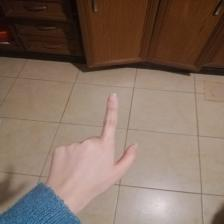five: (54, 94, 143, 196)
